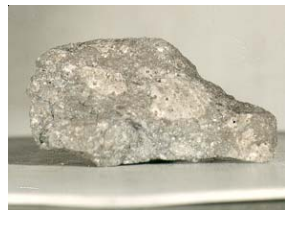Breccia: (25, 41, 289, 181), (115, 78, 231, 155)
